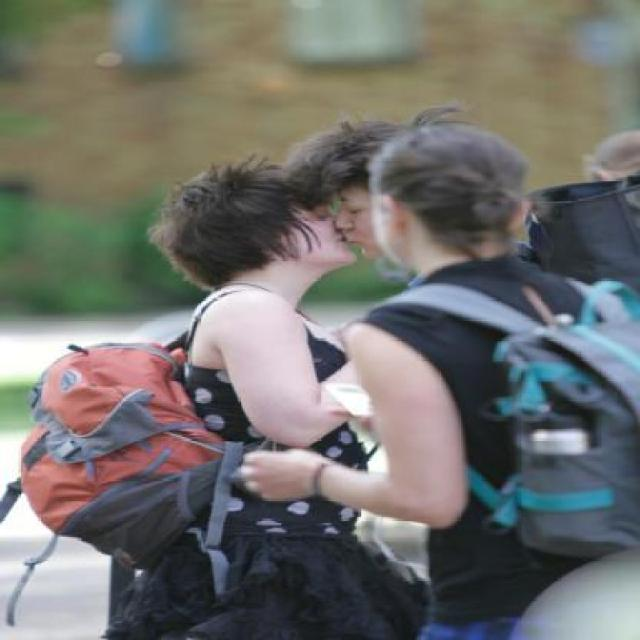backpack: (17, 340, 257, 572), (484, 277, 640, 563)
